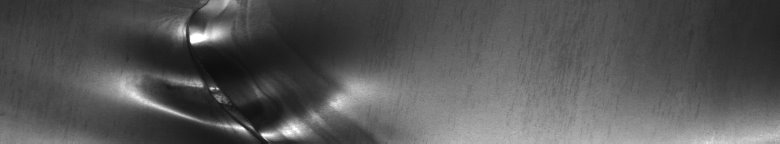ke: (131, 4, 336, 136)
